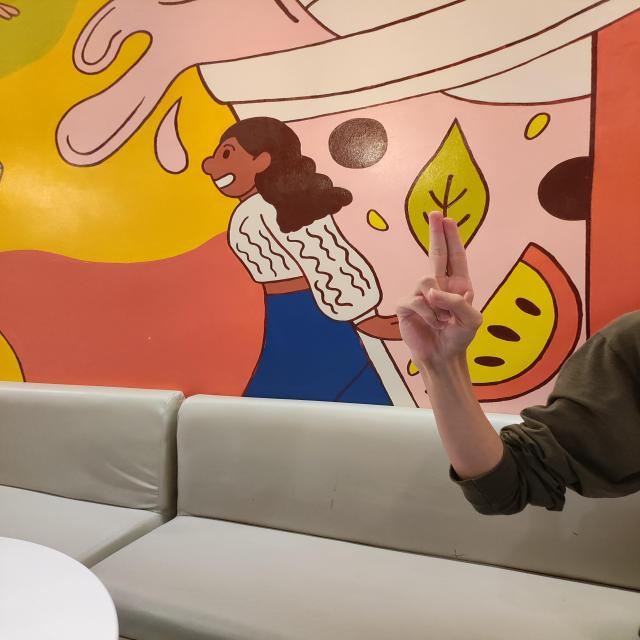U: (392, 208, 484, 364)
